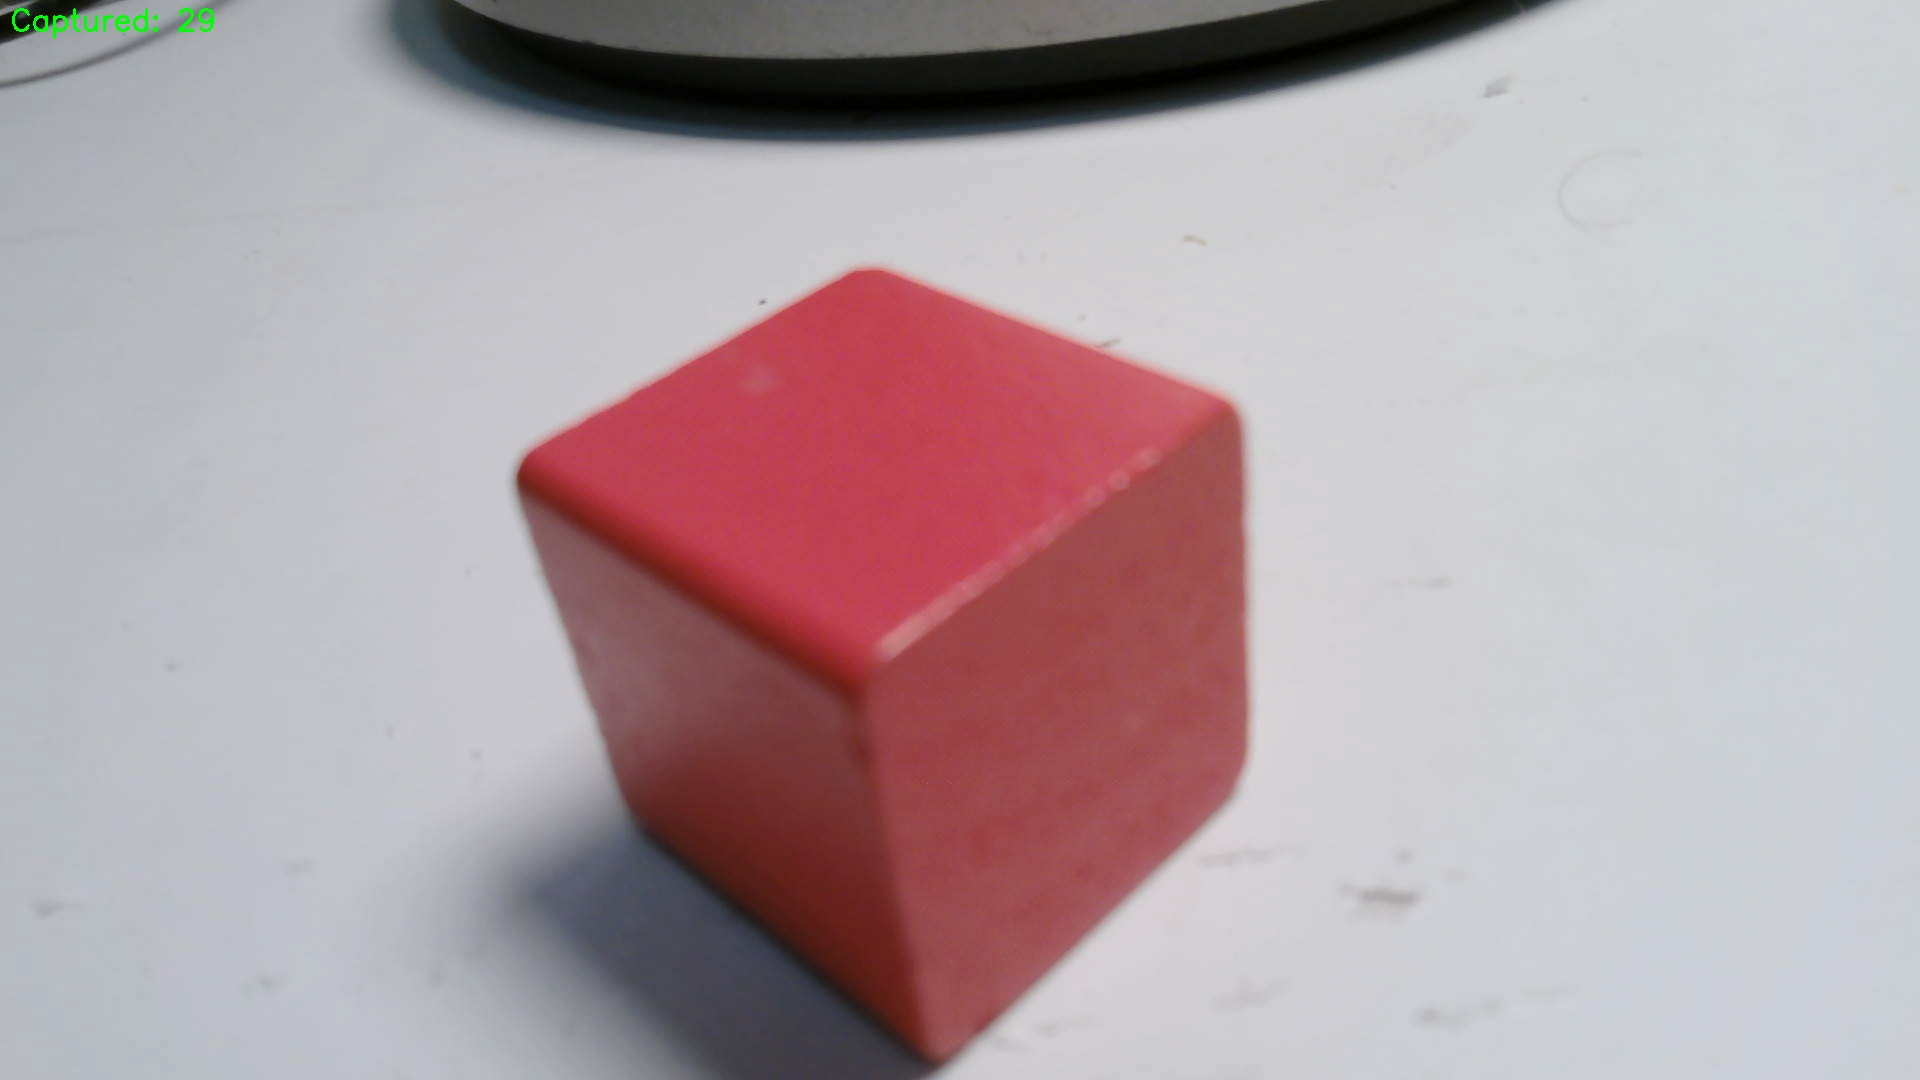red: (513, 270, 1245, 1058)
